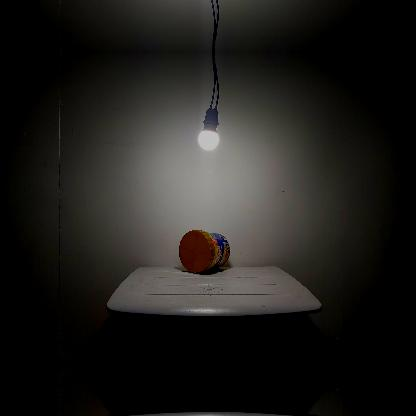Lady-s-Choice: (178, 229, 230, 273)
